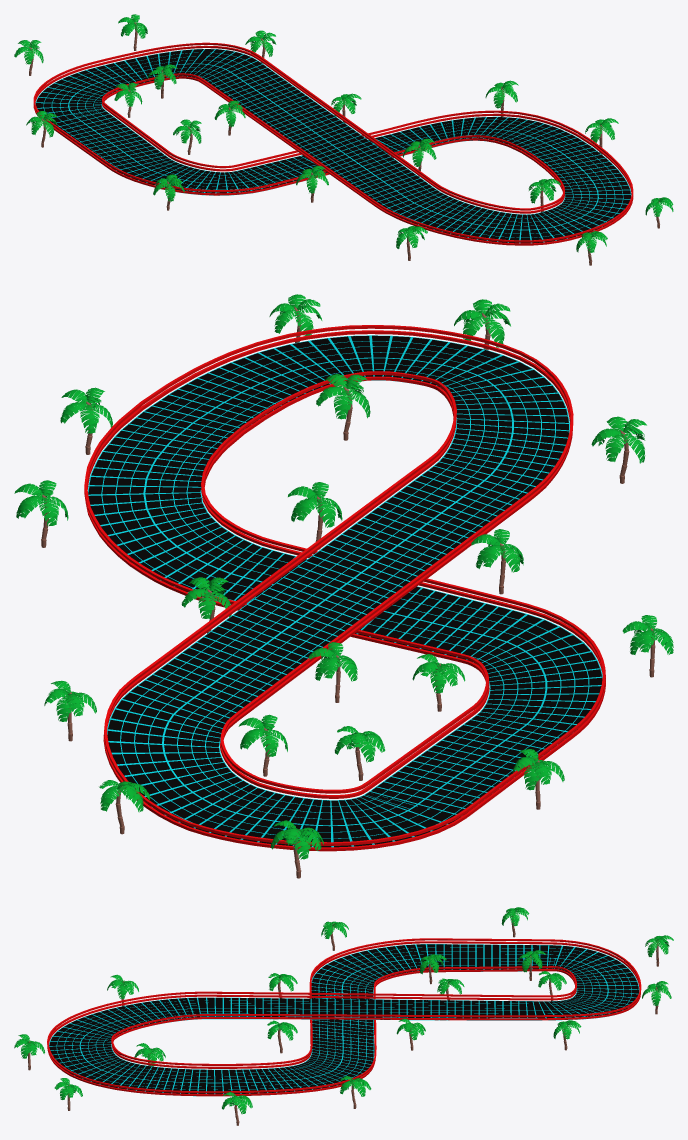
The model's file is infinite_test_track_export.fbx.
3 renders of one model, top to bottom at view 1: azimuth 30°, elevation 25°; view 2: azimuth 150°, elevation 25°; view 3: azimuth 270°, elevation 25°, orthographic. The views are drawn at different scales.
Visible parts, largest first — view 1: track, palmtree.008, palmtree.014, palmtree.011, palmtree.001, palmtree.015, palmtree.012, palmtree.013, palmtree.010, palmtree.006, palmtree.005, palmtree.007 (+6 smaller); view 2: track, palmtree.015, palmtree.014, palmtree.012, palmtree.011, palmtree.013, palmtree.016, palmtree.010, palmtree.009, palmtree.002, palmtree.003, palmtree.008 (+7 smaller); view 3: track, palmtree.016, palmtree.013, palmtree.012, palmtree.011, palmtree.007, palmtree.015, palmtree.006, palmtree.017, palmtree.004, palmtree.001, palmtree (+6 smaller).
Part boxes in pixels (bbox=[...]): track: bbox=[33, 42, 633, 245]; palmtree.008: bbox=[26, 111, 56, 147]; palmtree.014: bbox=[528, 178, 560, 212]; palmtree.011: bbox=[402, 138, 436, 176]; palmtree.001: bbox=[173, 119, 201, 154]; palmtree.015: bbox=[396, 226, 427, 260]; palmtree.012: bbox=[485, 80, 518, 116]; palmtree.013: bbox=[585, 118, 618, 154]; palmtree.010: bbox=[296, 165, 328, 202]; palmtree.006: bbox=[118, 14, 147, 50]; palmtree.005: bbox=[245, 30, 276, 63]; palmtree.007: bbox=[14, 40, 43, 75]; track: bbox=[84, 325, 605, 851]; palmtree.015: bbox=[591, 416, 646, 483]; palmtree.014: bbox=[316, 374, 370, 440]; palmtree.012: bbox=[14, 480, 68, 547]; palmtree.011: bbox=[288, 482, 342, 549]; palmtree.013: bbox=[60, 387, 112, 454]; palmtree.016: bbox=[454, 299, 510, 350]; palmtree.010: bbox=[471, 529, 523, 594]; palmtree.009: bbox=[622, 615, 673, 677]; palmtree.002: bbox=[308, 642, 357, 702]; palmtree.003: bbox=[238, 714, 287, 776]; palmtree.008: bbox=[512, 749, 564, 809]; track: bbox=[47, 938, 641, 1096]; palmtree.016: bbox=[14, 1034, 44, 1070]; palmtree.013: bbox=[222, 1092, 252, 1125]; palmtree.012: bbox=[340, 1076, 371, 1108]; palmtree.011: bbox=[267, 1020, 297, 1053]; palmtree.007: bbox=[645, 935, 673, 966]; palmtree.015: bbox=[107, 974, 138, 1006]; palmtree.006: bbox=[642, 981, 671, 1014]; palmtree.017: bbox=[54, 1078, 82, 1110]; palmtree.004: bbox=[396, 1018, 425, 1050]; palmtree.001: bbox=[420, 954, 446, 984]; palmtree: bbox=[517, 950, 545, 980].
Size of what is drawn, in the model's own units: 23887 by 1803 by 33035.
